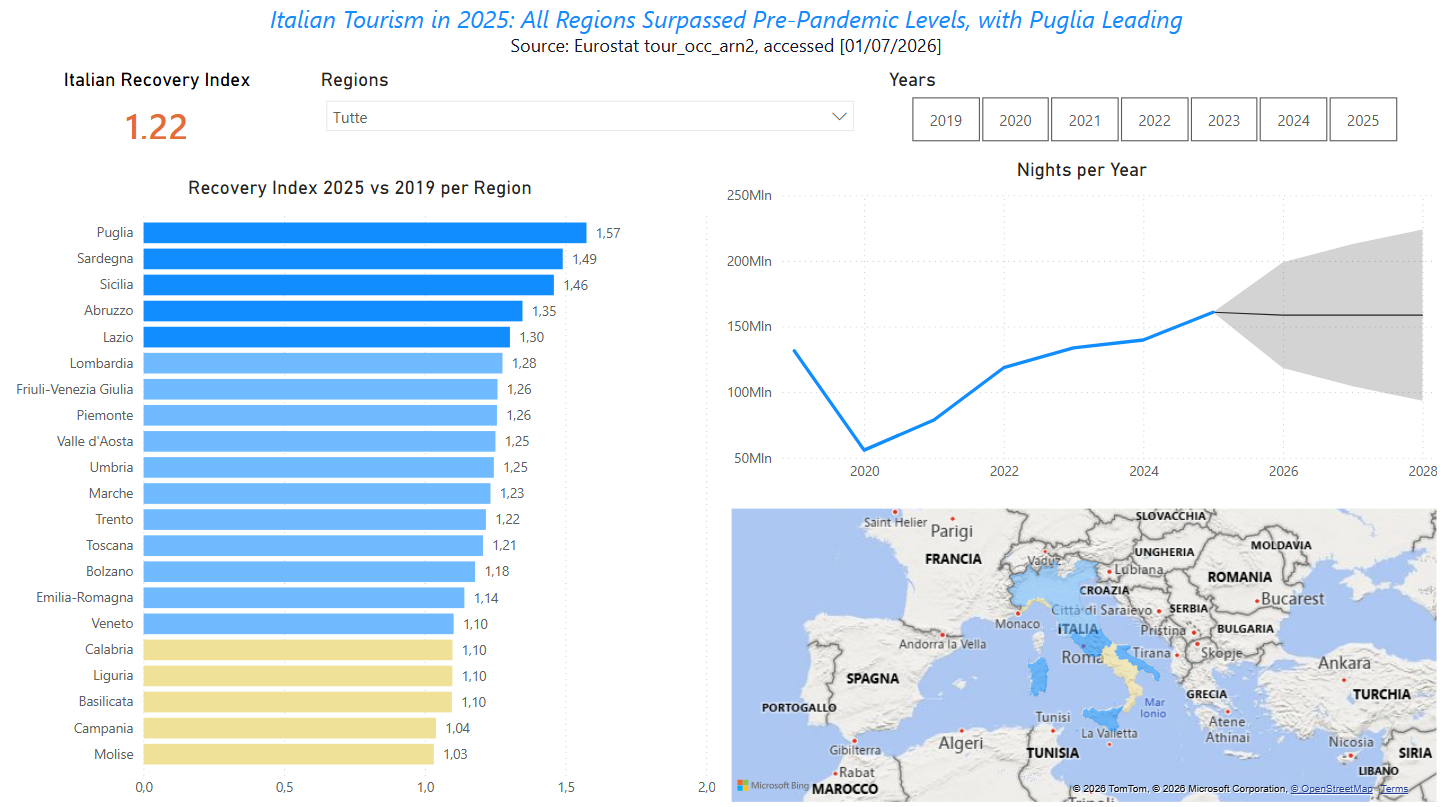

The page's visual inventory and layout, read from the dashboard file:
{"tool":"powerbi","page":{"name":"Main","canvas":[1280,720],"ordinal":0},"visuals":[{"type":"textbox","box":[9.8,0,1270.2,84.5],"z":0},{"type":"clusteredBarChart","title":"Recovery Index 2025 vs 2019 per Region","fields":{"Category":["fct_yearly_nights.region_name"],"Y":["fct_yearly_nights.Recovery_Index"]},"box":[0,159.5,640,560.2],"z":1000},{"type":"lineChart","title":"Nights per Year","fields":{"Category":["fct_yearly_nights.year"],"Y":["Sum(fct_yearly_nights.nights)"]},"box":[640,144,640,295.7],"z":2000},{"type":"filledMap","fields":{"Category":["dim_region.region_name"]},"box":[644.9,449.4,635.1,270.4],"z":3000},{"type":"slicer","title":"Regions","fields":{"Values":["dim_region.region_name"]},"box":[280.2,63.8,487.7,80.7],"z":4000},{"type":"slicer","title":"Years","fields":{"Values":["fct_yearly_nights.year"]},"box":[783.8,63.8,479.7,71.8],"z":5000},{"type":"cardVisual","title":"Italian Recovery Index","fields":{"Data":["fct_yearly_nights.Italy Recovery Index (Fixed)"]},"box":[0,63.8,280.2,80.7],"z":6000}]}

Visuals, with their boxes in screenshot pixels (x1, y1, x2, y2), scaled from the page's 1280x720 canvas onto the 1440x807 screenshot:
textbox: <region>11, 0, 1439, 95</region>
"Recovery Index 2025 vs 2019 per Region" clusteredBarChart: <region>0, 179, 720, 806</region>
"Nights per Year" lineChart: <region>720, 161, 1439, 493</region>
filledMap - dim_region.region_name: <region>726, 504, 1439, 806</region>
"Regions" slicer: <region>315, 72, 864, 162</region>
"Years" slicer: <region>882, 72, 1421, 152</region>
"Italian Recovery Index" cardVisual: <region>0, 72, 315, 162</region>
